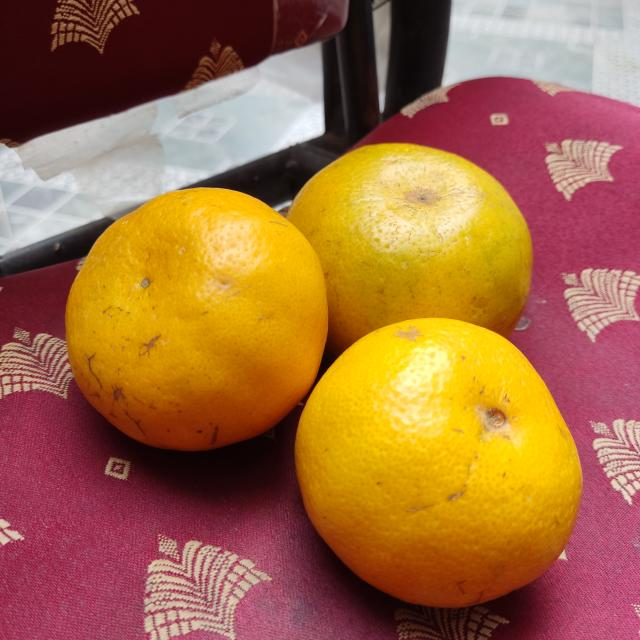orange: (292, 316, 588, 608), (62, 188, 328, 450), (287, 142, 535, 354)
